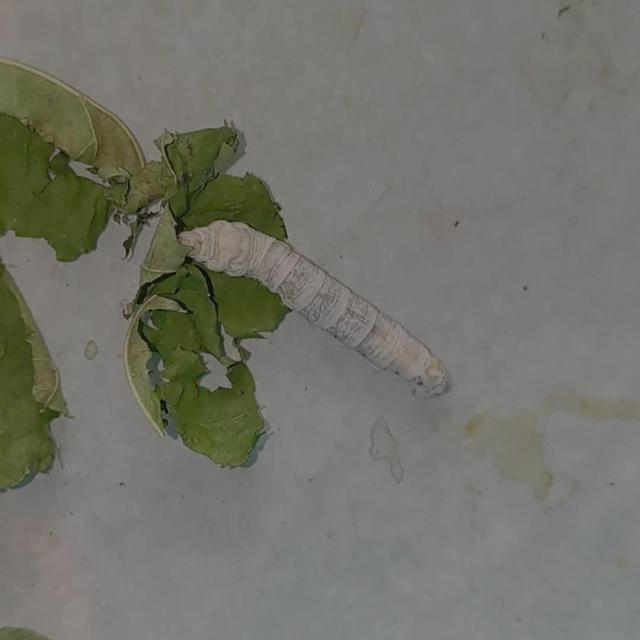Grasserie: (129, 187, 482, 431)
